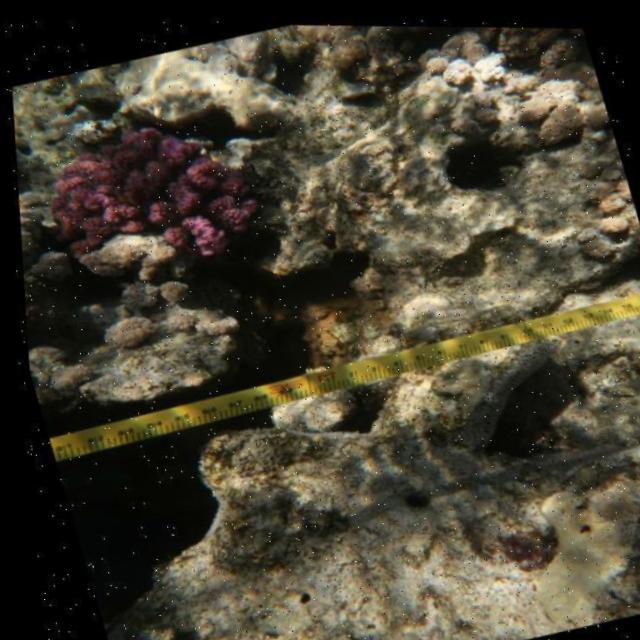Healthy Coral: (15, 89, 278, 300)
